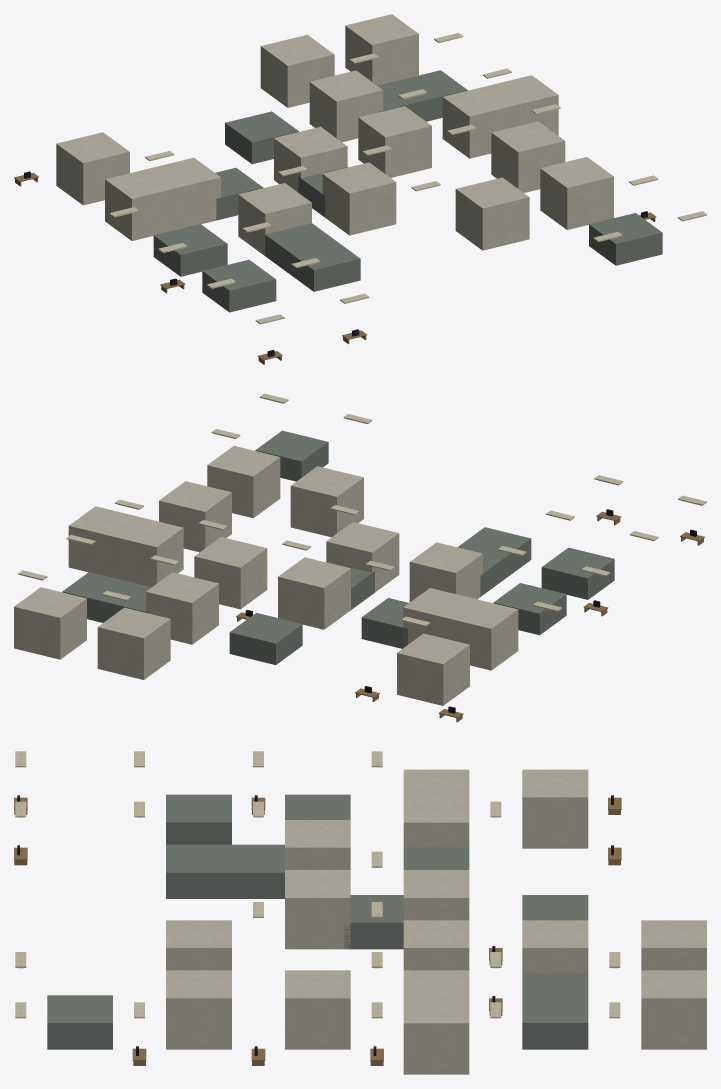
Rendered from level4_walls_0_1.obj.
The picture shows the model from 3 angles, top to bottom: view 1: azimuth 30°, elevation 25°; view 2: azimuth 150°, elevation 25°; view 3: azimuth 270°, elevation 25°; orthographic projection. The views are drawn at different scales.
Size of the model in its own units: 35.25 by 3.1 by 37.92.
6 materials, 2 textured.
